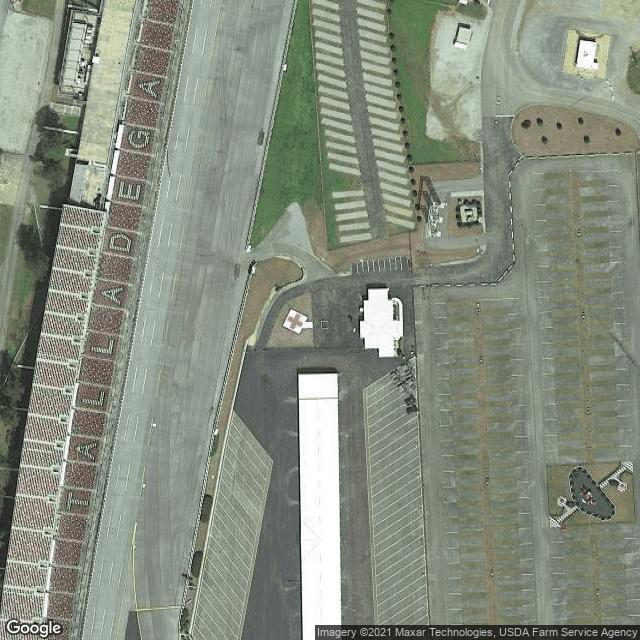Helipad: (282, 307, 309, 337)
